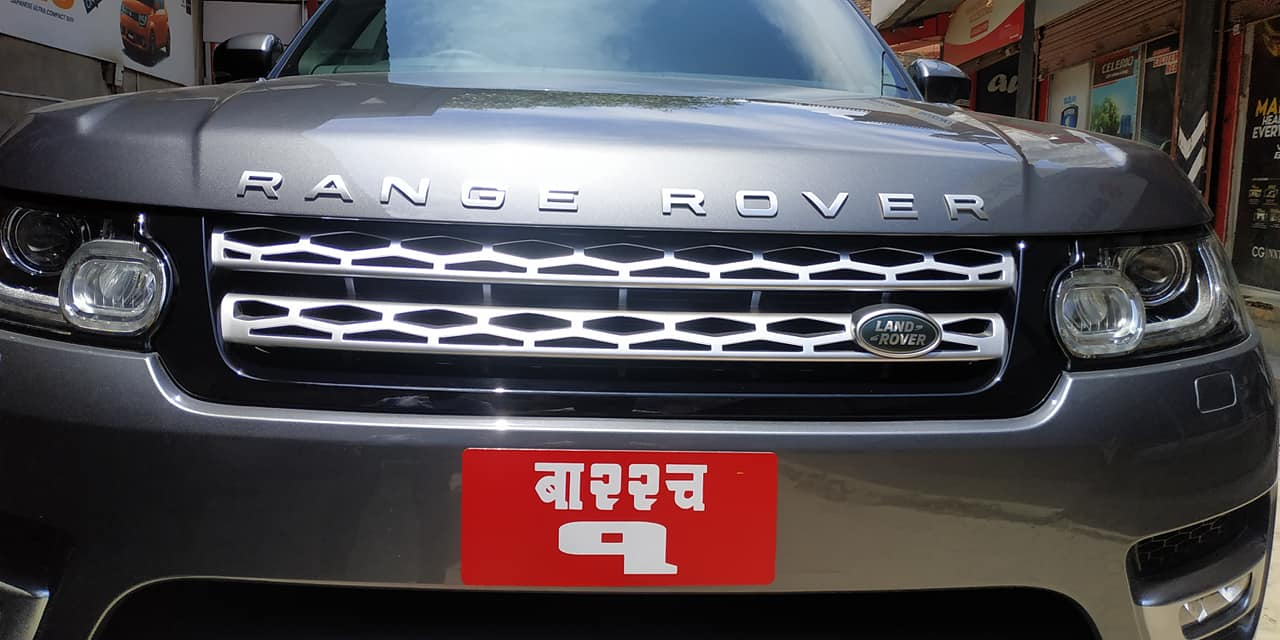number plate: (460, 447, 778, 585)
